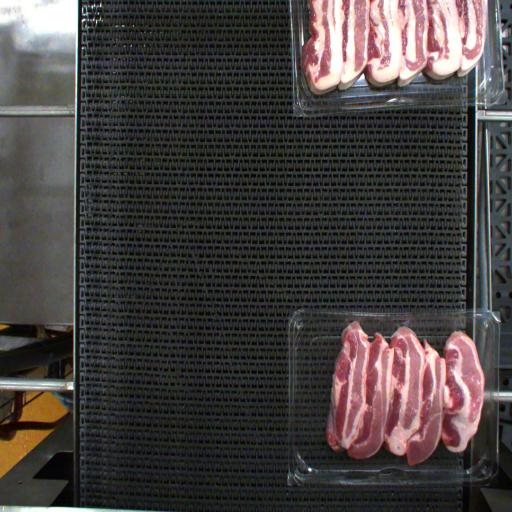packaging-error: (346, 315, 364, 328), (398, 318, 412, 330)
